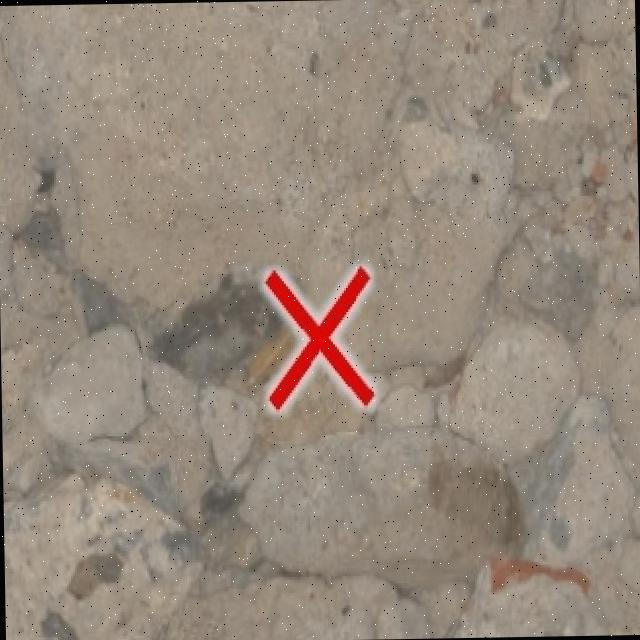x_marker: (264, 268, 372, 408)
